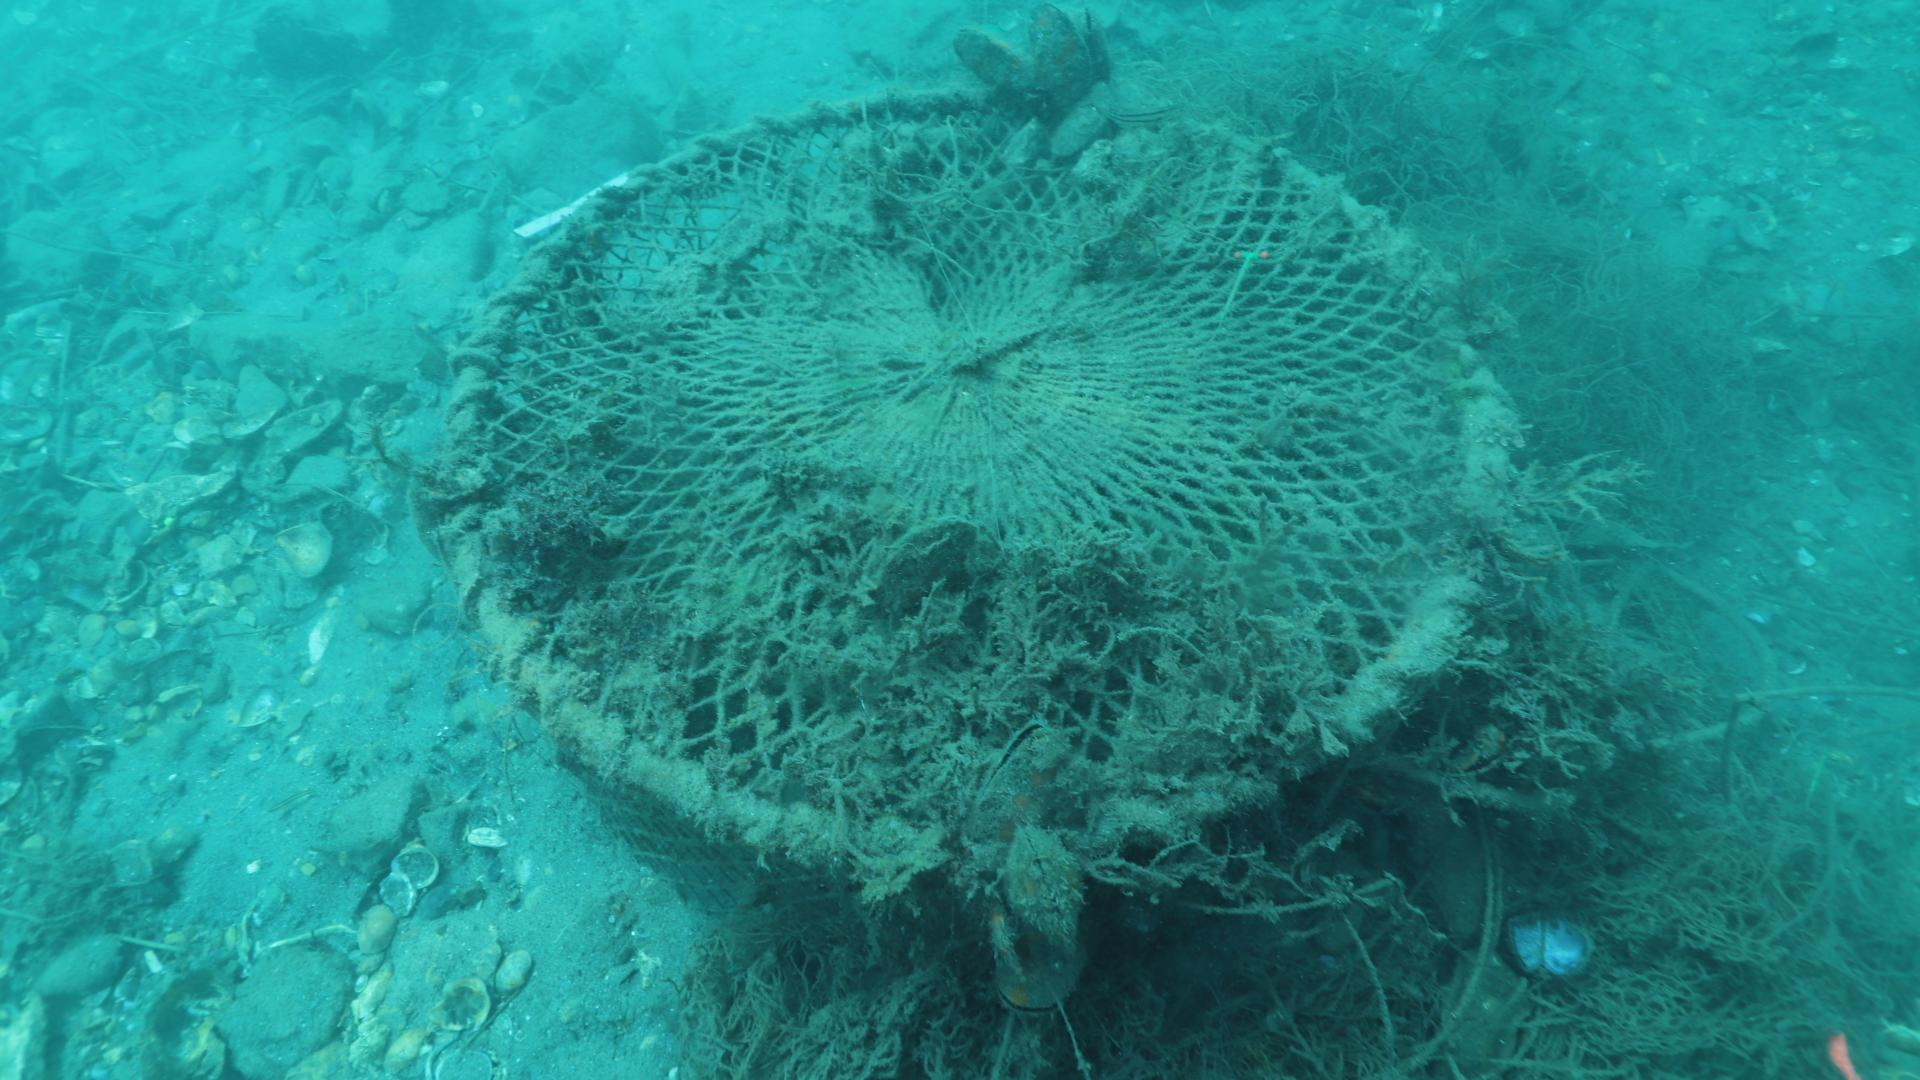circular fish trap: (436, 74, 1544, 890)
